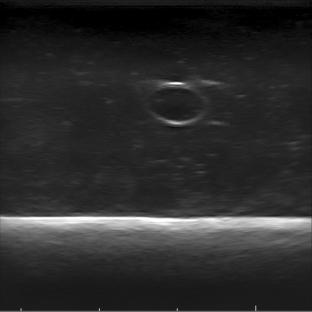vessel: (144, 80, 207, 128)
